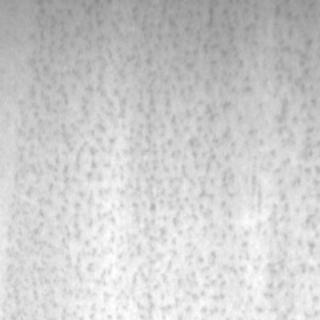pitted_surface: (5, 0, 318, 318)
